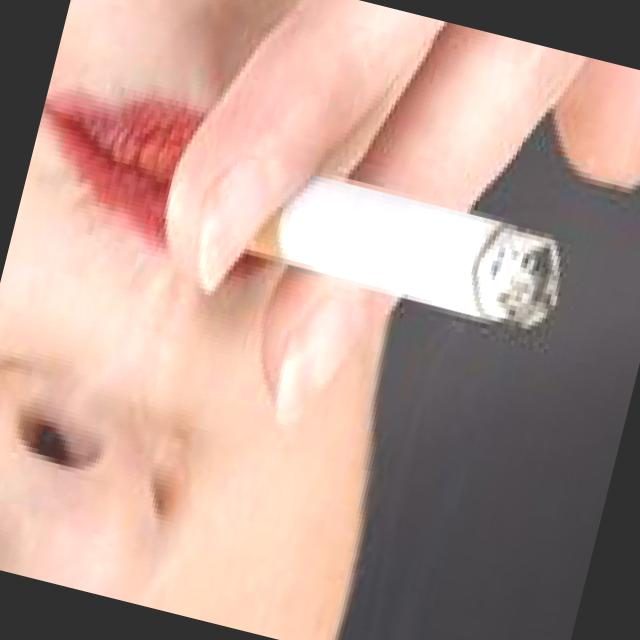smoke: (124, 100, 603, 397)
